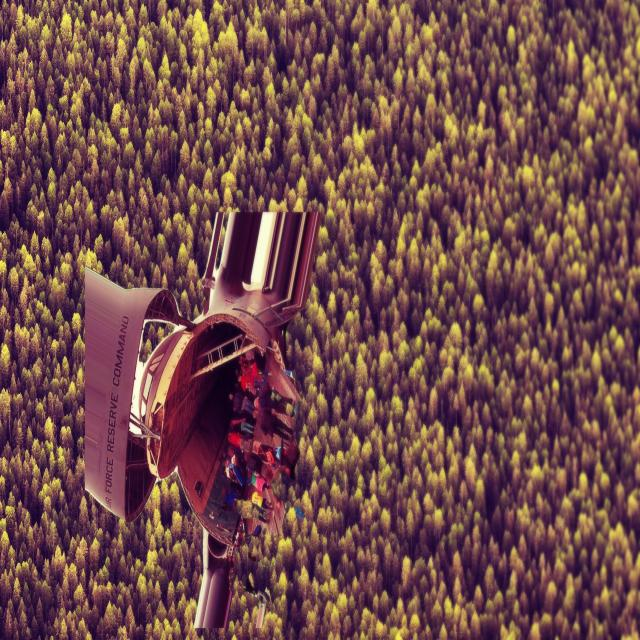airplane: (82, 208, 322, 636)
